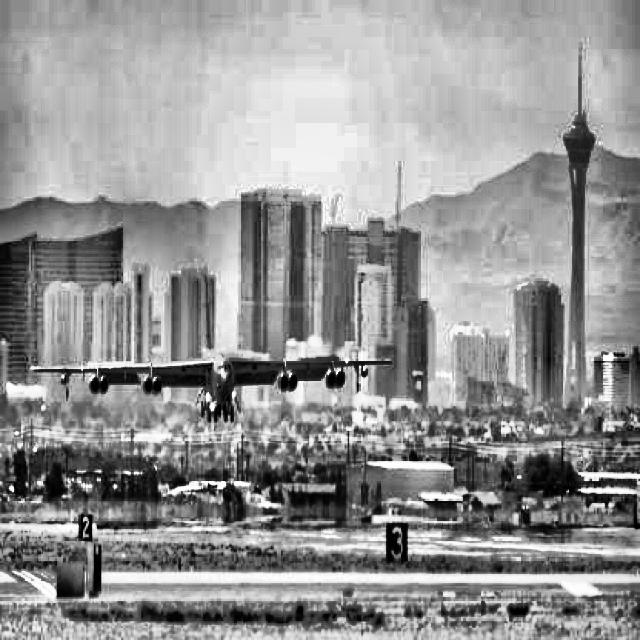B52: (30, 265, 392, 424)
